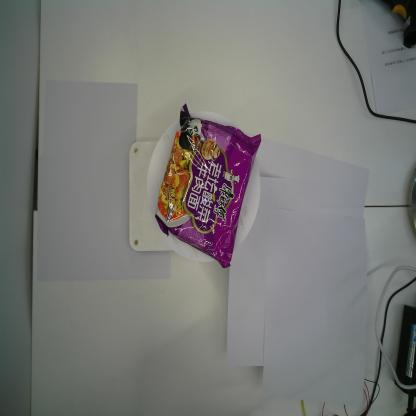Instant Noodles: (154, 102, 262, 270)
